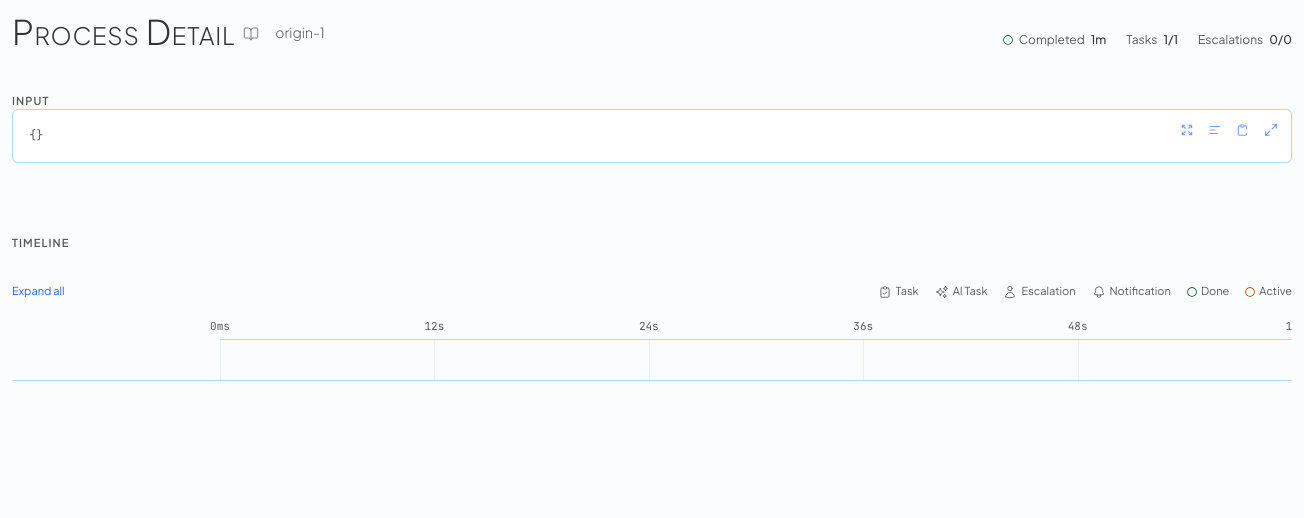
Test: ProcessDetailPage › renders trace CopyableId for tasks with trace_id when expanded
// Click "Expand all" to reveal detail panels
Click the button "Expand all": [38, 292] box [12,283,65,300]
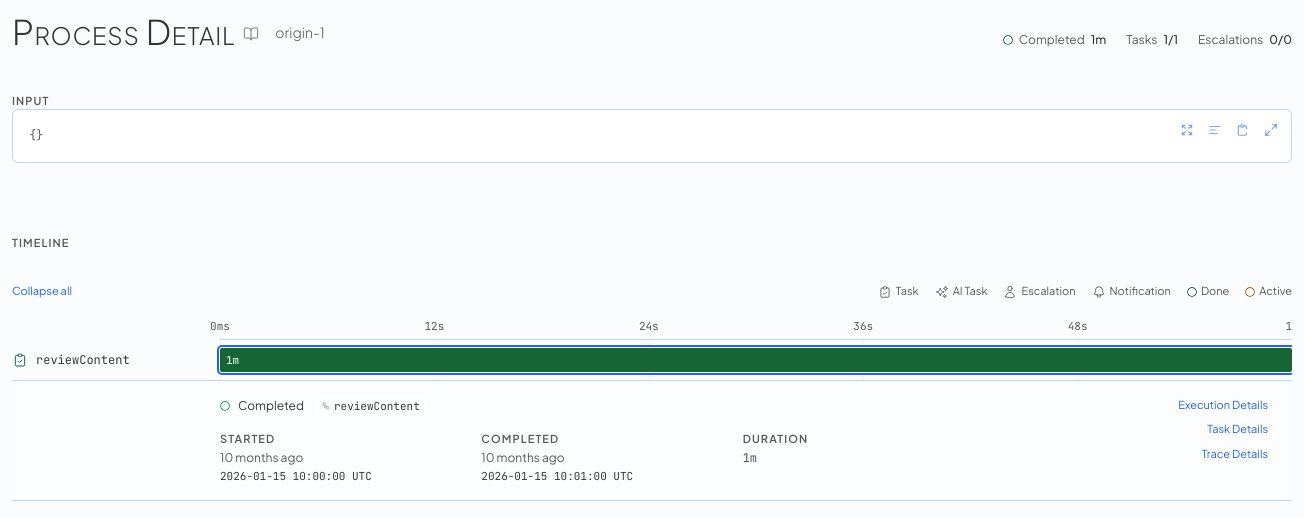
Result: the text "Trace Details" is shown at [1202,446,1268,462]
